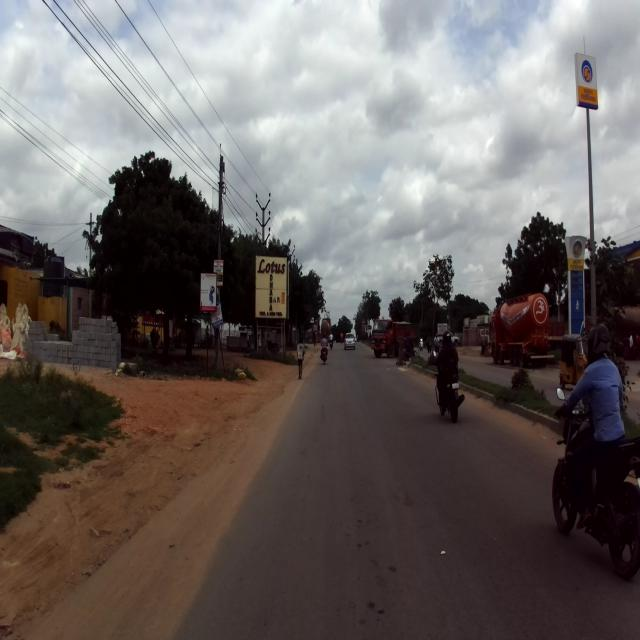motorcycle: (551, 386, 639, 581), (432, 349, 465, 423)
